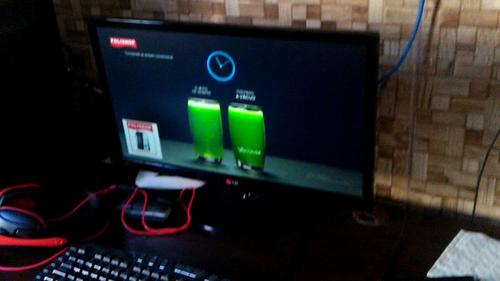Polishop #1: (122, 118, 163, 160)
